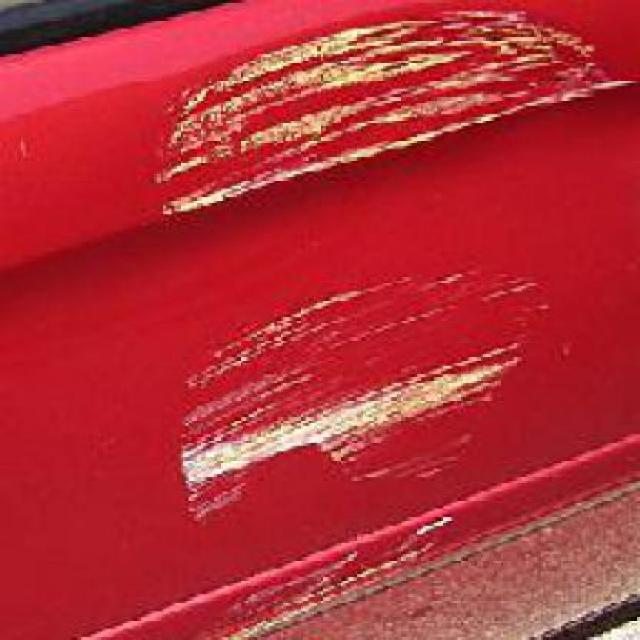dent-or-scratch: (154, 0, 638, 214), (146, 262, 554, 496)
